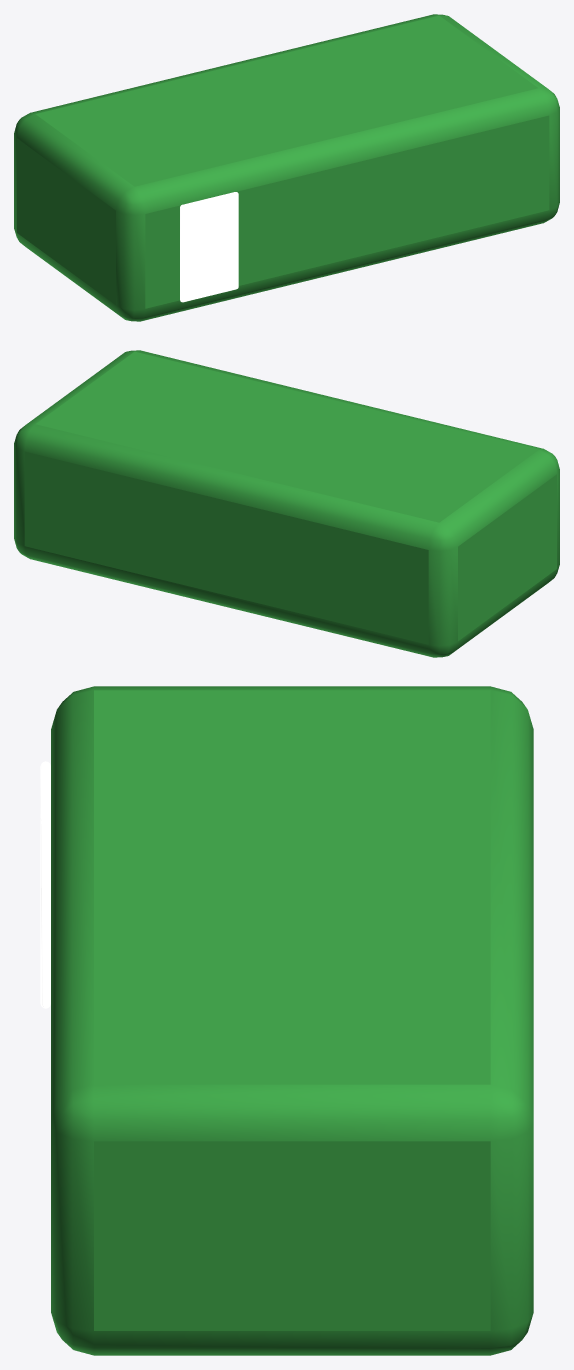
The model's file is zed_hlavice.glb.
3 views of the same model, one above another, from view 1: azimuth 30°, elevation 25°; view 2: azimuth 150°, elevation 25°; view 3: azimuth 270°, elevation 25° (orthographic). The views are drawn at different scales.
Parts seen in each view (by area): view 1: zed_hlavice_m, zed_hlavice_lesk; view 2: zed_hlavice_m; view 3: zed_hlavice_m, zed_hlavice_lesk.
Part boxes in pixels (box(x1,y1,x2,y2)): zed_hlavice_m: box(14, 14, 559, 321); zed_hlavice_lesk: box(180, 192, 238, 302); zed_hlavice_m: box(14, 350, 559, 657); zed_hlavice_m: box(51, 686, 533, 1355); zed_hlavice_lesk: box(40, 761, 50, 1008).
Size of the model in its own units: 1.9 by 0.5499 by 0.92.
